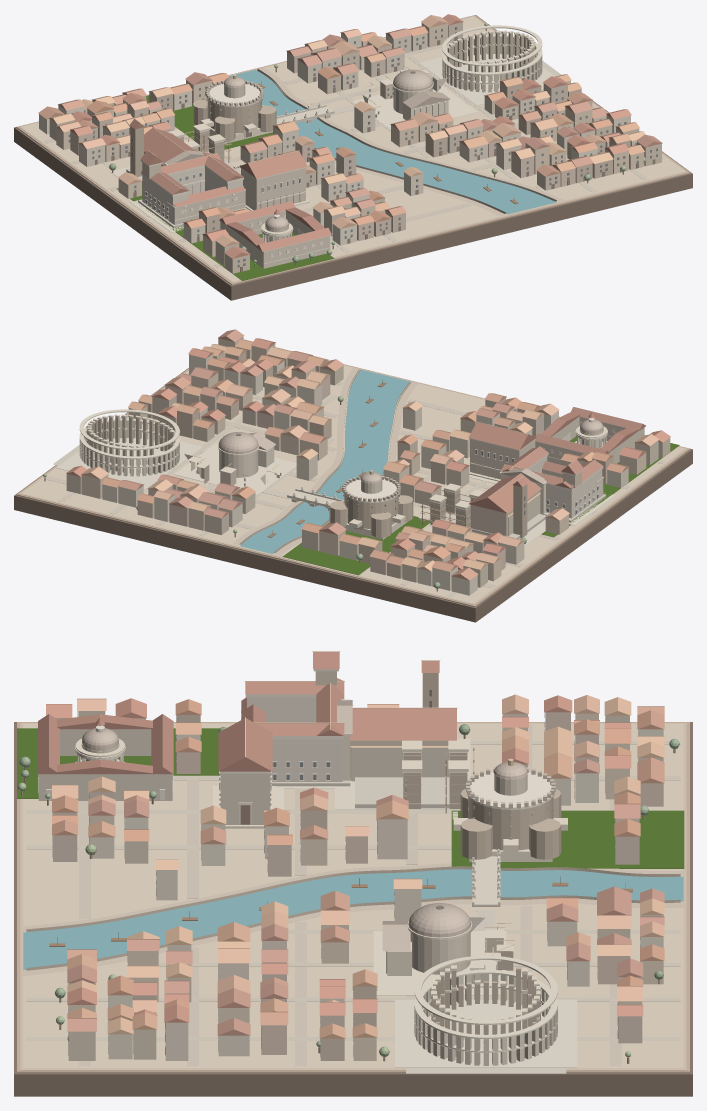
File: rome_city.glb
3 views of the same model, one above another, from view 1: azimuth 30°, elevation 25°; view 2: azimuth 150°, elevation 25°; view 3: azimuth 270°, elevation 25° (orthographic). The views are drawn at different scales.
Visible parts, largest first — view 1: 01_Base_de_piedra, 04_Tierra_Este, 04_Tierra_Oeste, 05_Tiber_Agua_Azul, Monumento_capilla_sixtina_CapillaSixtina_limestone_CapillaS. (×2), Monumento_castel_sant_angelo_CastelSantAngelo_stone_CastelSa, Monumento_COLISEO_stone, 02_Borde_ocre, Monumento_palacios_vaticanos_PalaciosVaticanos_plaster_Palac, Monumento_capilla_sixtina_CapillaSixtina_limestone_CapillaSi, Viviendas_Ventanas_Ciudad, 03_Capa_superior (+26 smaller); view 2: 01_Base_de_piedra, 05_Tiber_Agua_Azul, 04_Tierra_Este, 04_Tierra_Oeste, Monumento_castel_sant_angelo_CastelSantAngelo_stone_CastelSa, 02_Borde_ocre, Monumento_COLISEO_stone, 03_Capa_superior, Plaza_Tempietto.004, Plaza_Panteon, Plaza_Coliseo, Monumento_san_pietro_1512_SanPedro1512_stone_SanPedro1512_st (+26 smaller); view 3: 04_Tierra_Este, 04_Tierra_Oeste, 01_Base_de_piedra, 05_Tiber_Agua_Azul, Plaza_Tempietto.004, Plaza_Coliseo, Monumento_castel_sant_angelo_CastelSantAngelo_stone_CastelSa, Monumento_palacios_vaticanos_PalaciosVaticanos_plaster_Palac, 02_Borde_ocre, 03_Capa_superior, Monumento_san_pietro_1512_SanPedro1512_roofdark_SanPedro1512, Monumento_capilla_sixtina_CapillaSixtina_roofdark_CapillaSi. (×3) (+56 smaller).
Boxes of the visible parts, box(x1,y1,x2,y2) form: 01_Base_de_piedra: box(14, 15, 692, 300); 04_Tierra_Este: box(256, 16, 684, 202); 04_Tierra_Oeste: box(22, 122, 506, 281); 05_Tiber_Agua_Azul: box(229, 69, 556, 214); Monumento_capilla_sixtina_CapillaSixtina_limestone_CapillaS. (×2): box(173, 190, 330, 268); Monumento_castel_sant_angelo_CastelSantAngelo_stone_CastelSa: box(193, 99, 276, 142); Monumento_COLISEO_stone: box(447, 32, 534, 89); 02_Borde_ocre: box(16, 15, 690, 285); Monumento_palacios_vaticanos_PalaciosVaticanos_plaster_Palac: box(142, 167, 242, 223); Monumento_capilla_sixtina_CapillaSixtina_limestone_CapillaSi: box(241, 168, 305, 210); Viviendas_Ventanas_Ciudad: box(68, 27, 657, 267); 03_Capa_superior: box(19, 16, 687, 283); 01_Base_de_piedra: box(14, 368, 692, 622); 05_Tiber_Agua_Azul: box(240, 369, 410, 553); 04_Tierra_Este: box(22, 365, 360, 546); 04_Tierra_Oeste: box(273, 382, 684, 603); Monumento_castel_sant_angelo_CastelSantAngelo_stone_CastelSa: box(329, 495, 413, 537); 02_Borde_ocre: box(16, 360, 690, 606); Monumento_COLISEO_stone: box(87, 416, 174, 473); 03_Capa_superior: box(19, 365, 687, 604); Plaza_Tempietto.004: box(282, 516, 430, 575); Plaza_Panteon: box(174, 443, 296, 494); Plaza_Coliseo: box(56, 430, 202, 489); Monumento_san_pietro_1512_SanPedro1512_stone_SanPedro1512_st: box(430, 484, 527, 537); 04_Tierra_Este: box(23, 901, 683, 1067); 04_Tierra_Oeste: box(23, 723, 683, 932); 01_Base_de_piedra: box(14, 722, 692, 1096); 05_Tiber_Agua_Azul: box(23, 869, 683, 970); Plaza_Tempietto.004: box(451, 810, 684, 868); Plaza_Coliseo: box(395, 999, 577, 1067); Monumento_castel_sant_angelo_CastelSantAngelo_stone_CastelSa: box(460, 789, 561, 859); Monumento_palacios_vaticanos_PalaciosVaticanos_plaster_Palac: box(247, 697, 342, 781); 02_Borde_ocre: box(17, 722, 689, 1072); 03_Capa_superior: box(20, 723, 686, 1070); Monumento_san_pietro_1512_SanPedro1512_roofdark_SanPedro1512: box(350, 661, 456, 740); Monumento_capilla_sixtina_CapillaSixtina_roofdark_CapillaSi. (×3): box(38, 714, 152, 774).
Bounding box in the file's own units: 271 × 40.79 × 220.
